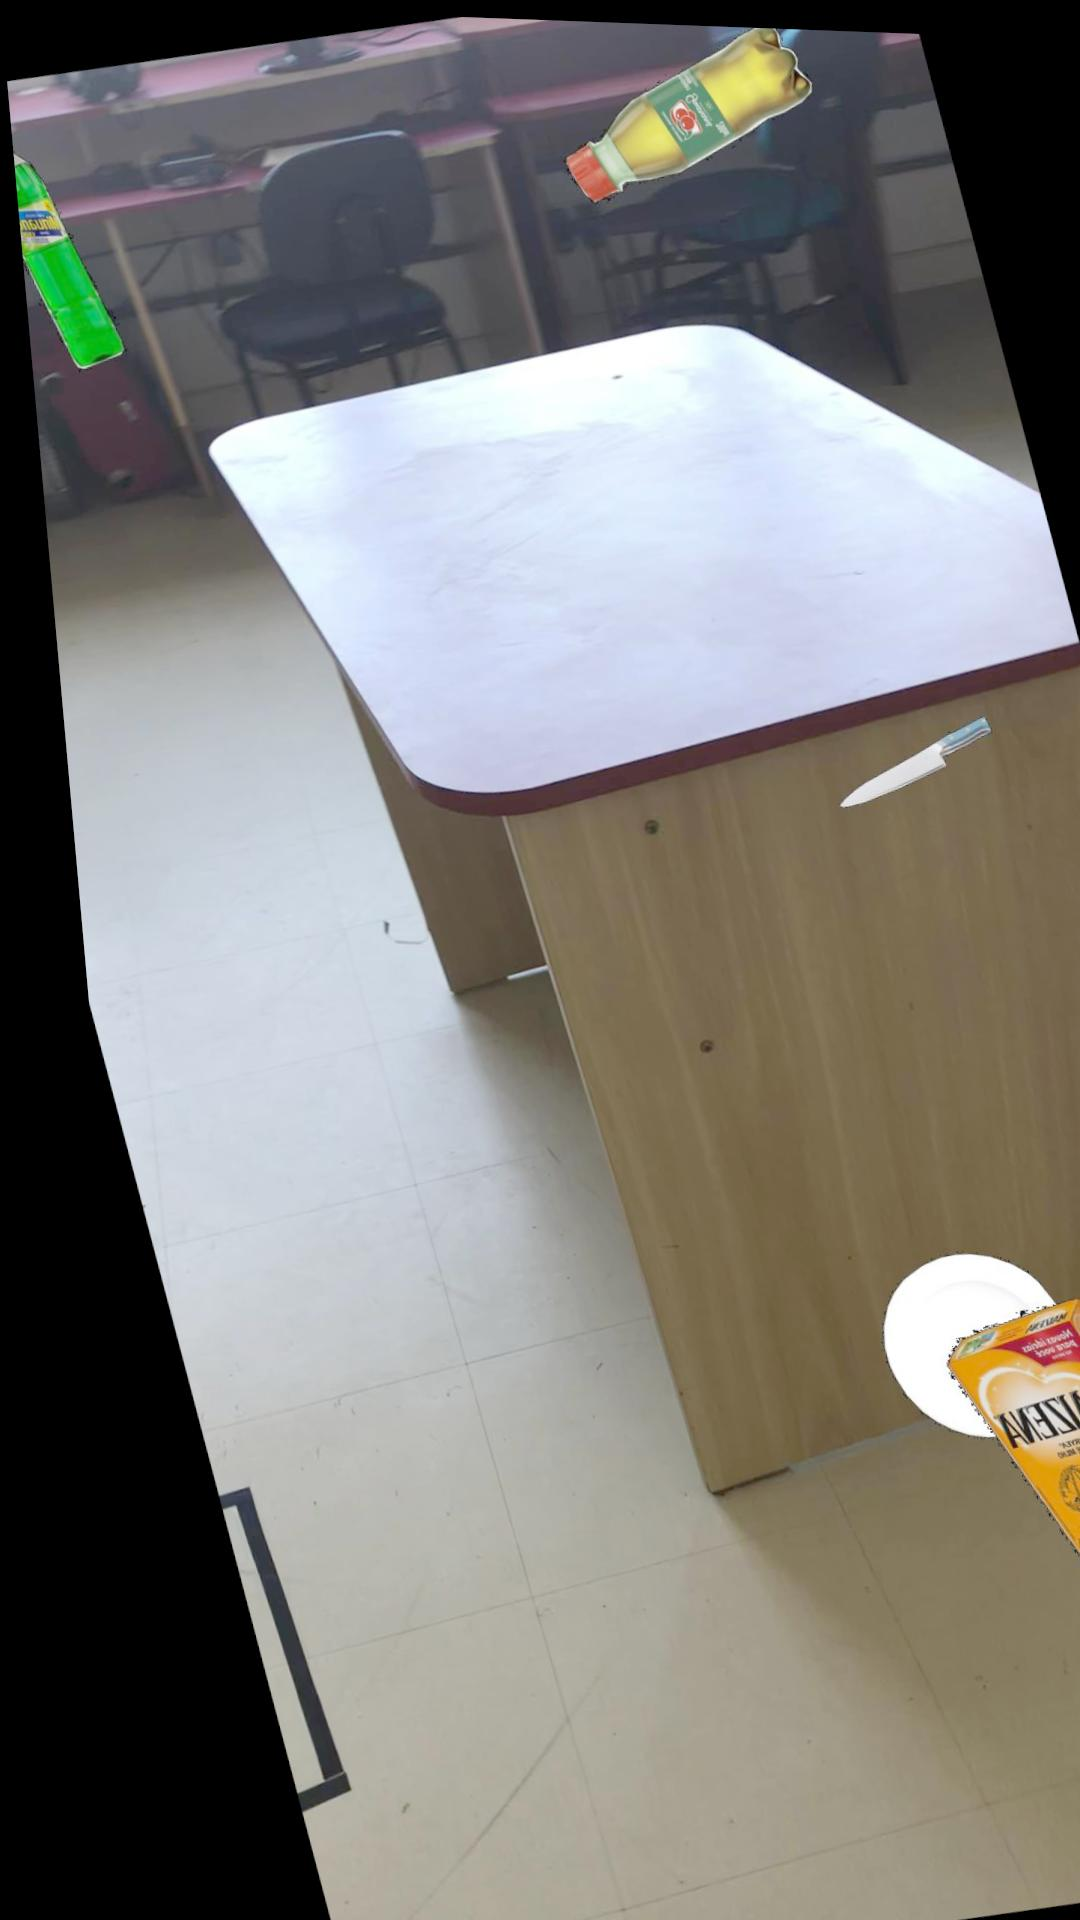cleaner: (11, 153, 116, 371)
guarana: (558, 21, 808, 196)
knife: (822, 707, 976, 799)
plate: (855, 1245, 1030, 1429)
